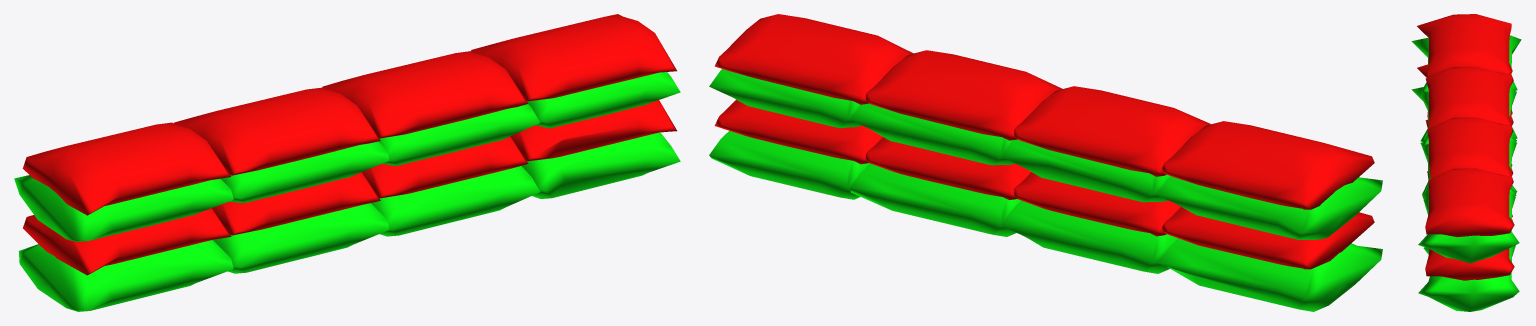
The model's file is SandBarrier.fbx.
3 views of the same model, side by side, from view 1: azimuth 30°, elevation 25°; view 2: azimuth 150°, elevation 25°; view 3: azimuth 270°, elevation 25° (orthographic). The views are drawn at different scales.
Visible parts, largest first — view 1: SandBarrier; view 2: SandBarrier; view 3: SandBarrier.
Boxes of the visible parts, x1,y1,x2,y2 form: SandBarrier: (14, 14, 680, 311); SandBarrier: (709, 14, 1382, 311); SandBarrier: (1411, 14, 1521, 311).
Size of the model in its own units: 31.5 by 7.61 by 7.06.
